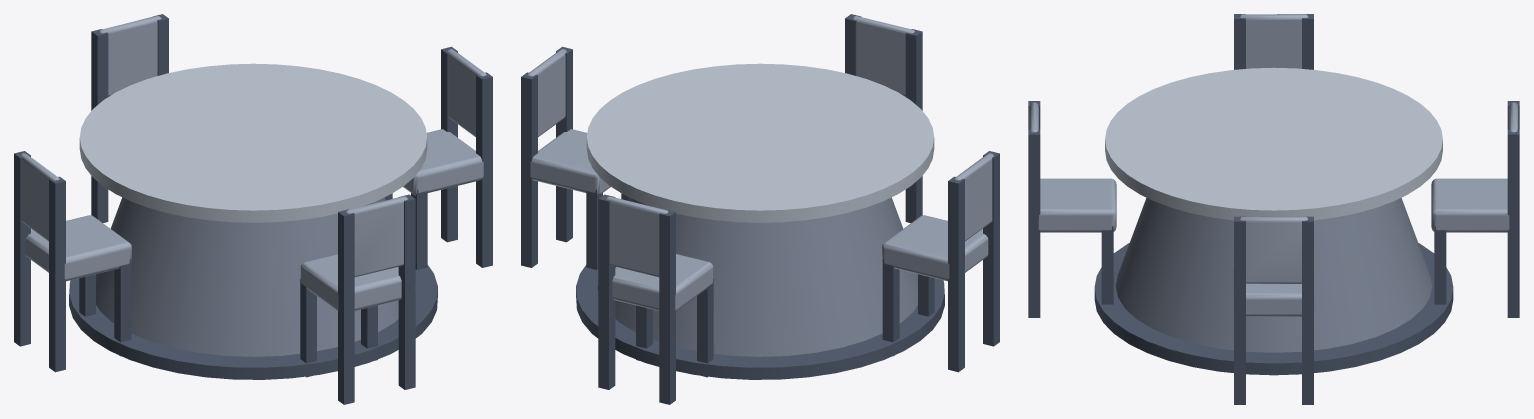
File: rounddiningtable-lite.glb
The picture shows the model from 3 angles, left to right: view 1: azimuth 30°, elevation 25°; view 2: azimuth 150°, elevation 25°; view 3: azimuth 270°, elevation 25°; orthographic projection. The views are drawn at different scales.
Parts seen in each view (by area): view 1: rounddiningtable; view 2: rounddiningtable; view 3: rounddiningtable.
Boxes of the visible parts, box(x1,y1,x2,y2) form: rounddiningtable: box(14, 14, 492, 404); rounddiningtable: box(521, 14, 999, 404); rounddiningtable: box(1028, 14, 1519, 404).
Bounding box in the file's own units: 2.05 × 0.852 × 2.05.
